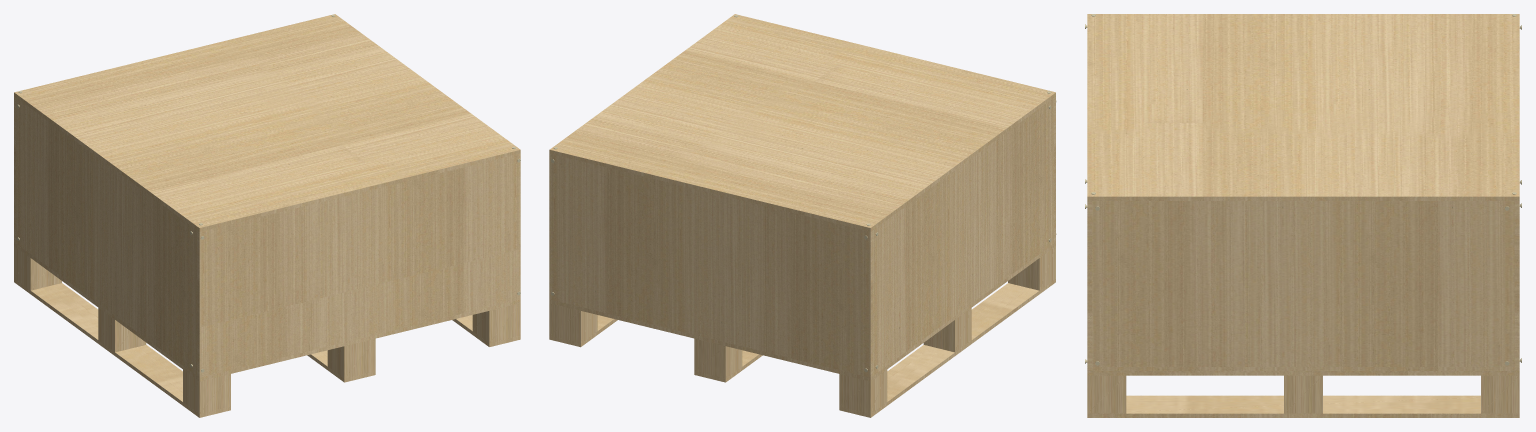
File: AGV.fbx
The picture shows the model from 3 angles, left to right: view 1: azimuth 30°, elevation 25°; view 2: azimuth 150°, elevation 25°; view 3: azimuth 270°, elevation 25°; orthographic projection. The views are drawn at different scales.
Parts seen in each view (by area): view 1: polySurface387, polySurface388, polySurface389, polySurface402, polySurface384, polySurface393, polySurface394, polySurface397, polySurface392, polySurface391; view 2: polySurface387, polySurface386, polySurface389, polySurface402, polySurface384, polySurface391, polySurface396, polySurface399, polySurface392, polySurface393; view 3: polySurface387, polySurface390, polySurface400, polySurface384, polySurface397, polySurface398, polySurface399, polySurface386, polySurface388.
Boxes of the visible parts, x1,y1,x2,y2 form: polySurface387: (14,14,520,231); polySurface388: (197,153,520,377); polySurface389: (16,98,197,375); polySurface402: (14,279,230,417); polySurface384: (14,242,520,381); polySurface393: (183,370,230,414); polySurface394: (327,338,375,378); polySurface397: (472,303,520,343); polySurface392: (98,308,146,352); polySurface391: (14,246,61,290); polySurface387: (549,14,1055,231); polySurface386: (549,153,872,377); polySurface389: (872,98,1053,375); polySurface402: (839,279,1055,417); polySurface384: (549,242,1055,381); polySurface391: (839,370,887,413); polySurface396: (694,338,742,378); polySurface399: (549,303,597,343); polySurface392: (923,308,971,352); polySurface393: (1008,246,1055,290); polySurface387: (1087,14,1519,200); polySurface390: (1092,201,1514,370); polySurface400: (1087,395,1519,417); polySurface384: (1087,371,1519,375); polySurface397: (1087,375,1126,413); polySurface398: (1284,375,1322,413); polySurface399: (1481,375,1519,413); polySurface386: (1514,201,1519,370); polySurface388: (1087,201,1092,370).
Bounding box in the file's own units: 89.25 × 50.29 × 89.42.
10 materials, 3 textured.
